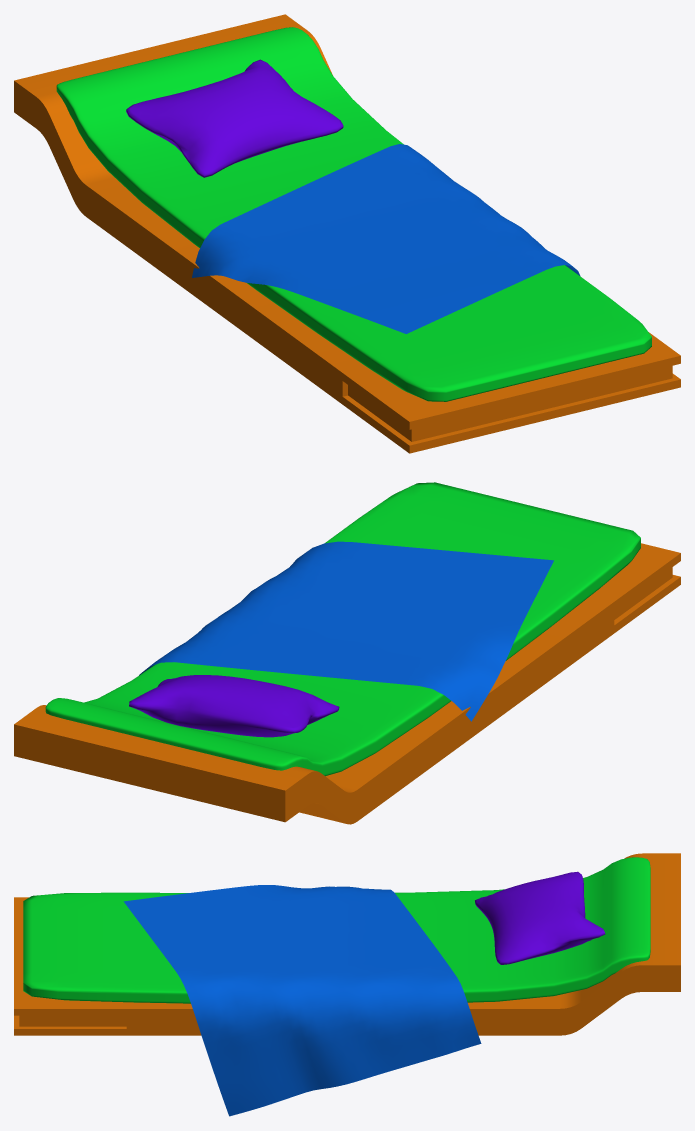
File: (Hollow) Beds.fbx
3 views of the same model, one above another, from view 1: azimuth 30°, elevation 25°; view 2: azimuth 150°, elevation 25°; view 3: azimuth 270°, elevation 25° (orthographic). The views are drawn at different scales.
Visible parts, largest first — view 1: Box001; view 2: Box001; view 3: Box001.
Part boxes in pixels (box(x1,y1,x2,y2)): Box001: box(14, 14, 680, 453); Box001: box(14, 482, 680, 824); Box001: box(14, 853, 680, 1116).
Size of the model in its own units: 0.9588 by 0.6005 by 2.27.
